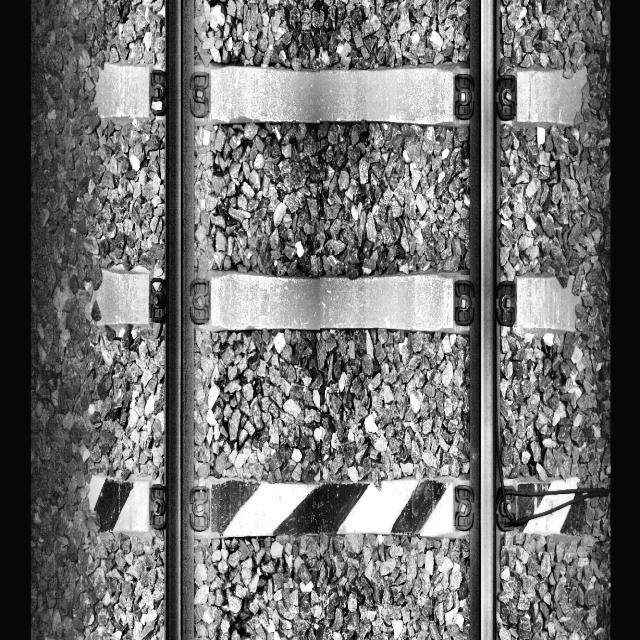Clips: (492, 70, 519, 126), (188, 272, 215, 327), (146, 64, 170, 120), (452, 479, 476, 533), (188, 480, 211, 536), (494, 481, 518, 533), (189, 67, 212, 121), (453, 69, 476, 121), (147, 275, 170, 327), (451, 276, 475, 325), (494, 276, 517, 327), (147, 481, 169, 534)
Sleepers: (81, 53, 592, 138), (77, 260, 590, 342), (80, 466, 592, 541)
